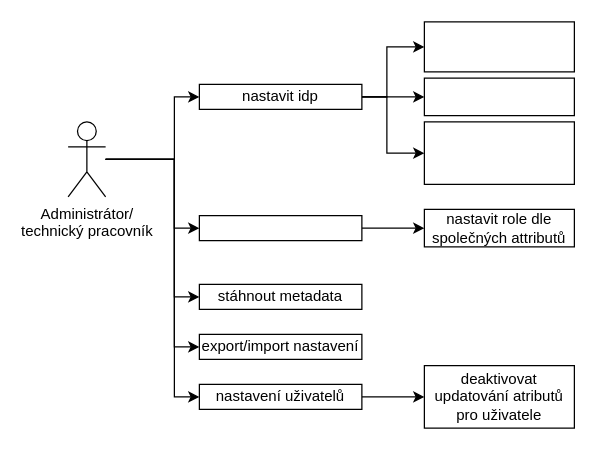
This 596x450 diagram has some shape labels left out. Each missing label, with the centre of its shape:
"namapovat attributy" goes at (498,96).
"nastavení rolí" goes at (280,227).
"smazat/přidat/upravit idp" goes at (498,46).
"upravit automatický obrázek/popis v discovery service" goes at (498,152).
